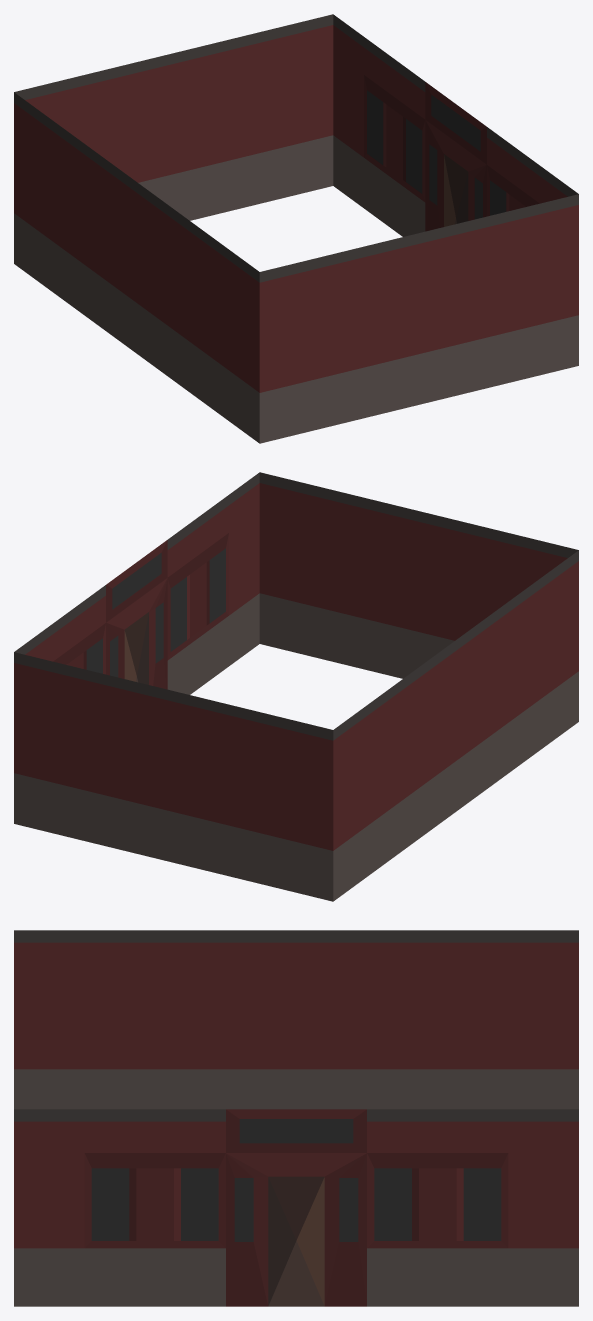
Rendered from BuildingA-Sm_DLOD2.fbx.
3 renders of one model, top to bottom at view 1: azimuth 30°, elevation 25°; view 2: azimuth 150°, elevation 25°; view 3: azimuth 270°, elevation 25°, orthographic. The views are drawn at different scales.
Visible parts, largest first — view 1: BuildingA-Sm_DLOD2; view 2: BuildingA-Sm_DLOD2; view 3: BuildingA-Sm_DLOD2.
Part boxes in pixels (x1,y1,x2,y2): BuildingA-Sm_DLOD2: (14,14,578,443); BuildingA-Sm_DLOD2: (14,472,578,901); BuildingA-Sm_DLOD2: (14,930,578,1306).
Bounding box in the file's own units: 750 × 386 × 1000.
